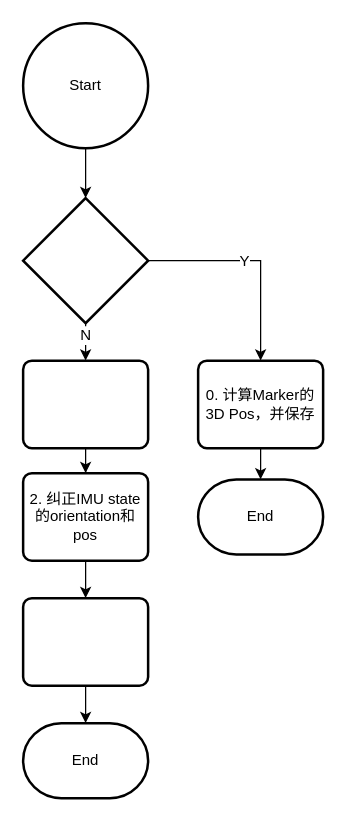
The diagram is 345 pixels wide and 820 high, and some of its shapes have lost their labels. Each missing label, with the box of its shape:
1. 利用Marker的3D Pos计算Camera 3D Pos: (21, 359, 149, 449)
3. 纠正Camera server中的camera states: (21, 596, 149, 686)
New marker: (21, 196, 149, 324)
